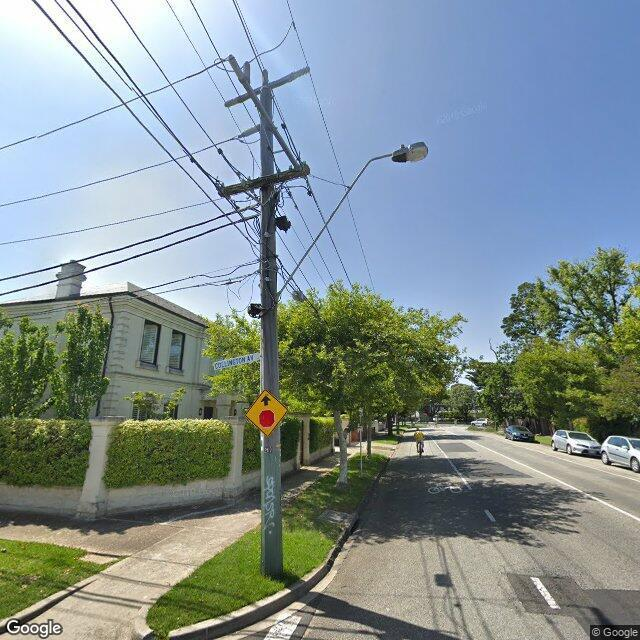HV-transmission: (228, 54, 300, 170), (224, 66, 310, 108)
crossarm: (241, 80, 296, 166), (218, 163, 311, 196), (240, 74, 294, 100)
streetlight: (273, 142, 429, 302)
timber-pole: (260, 86, 284, 576)
